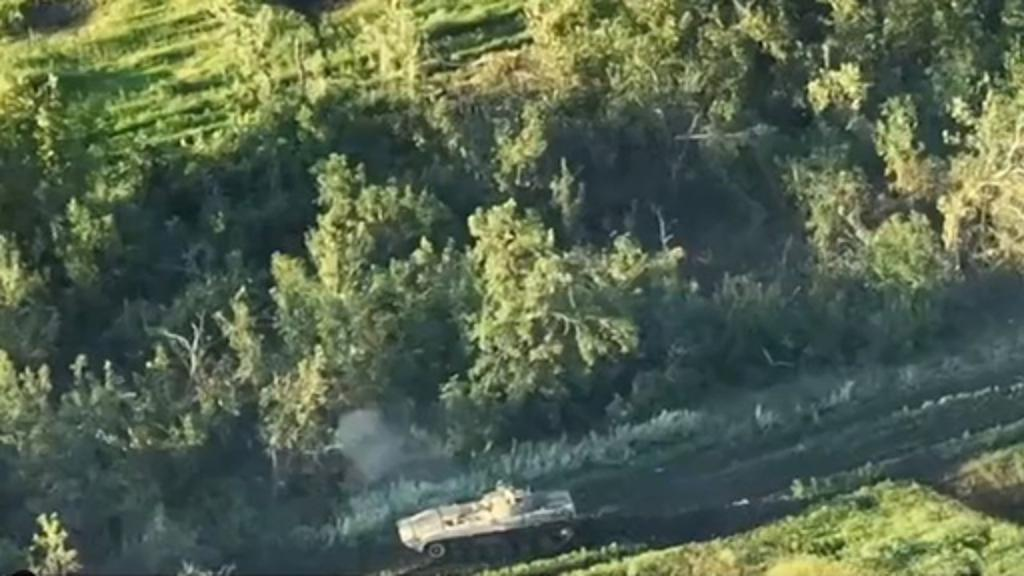APC-IFV: (386, 476, 582, 562)
